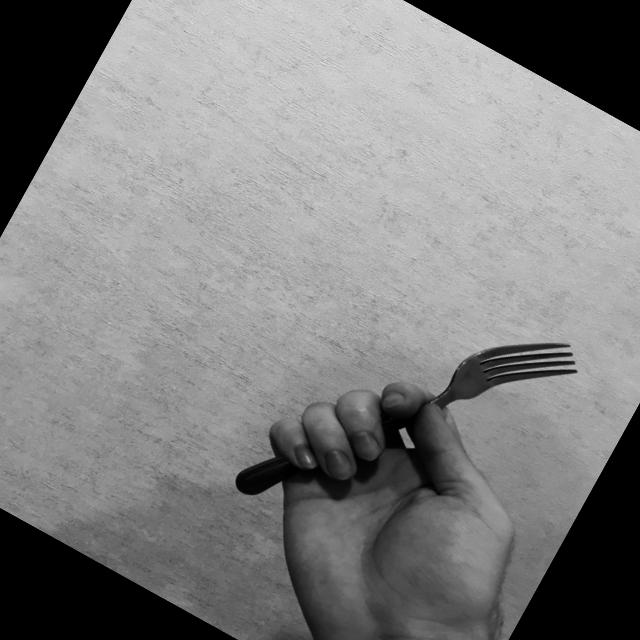fork: (227, 233, 587, 610)
